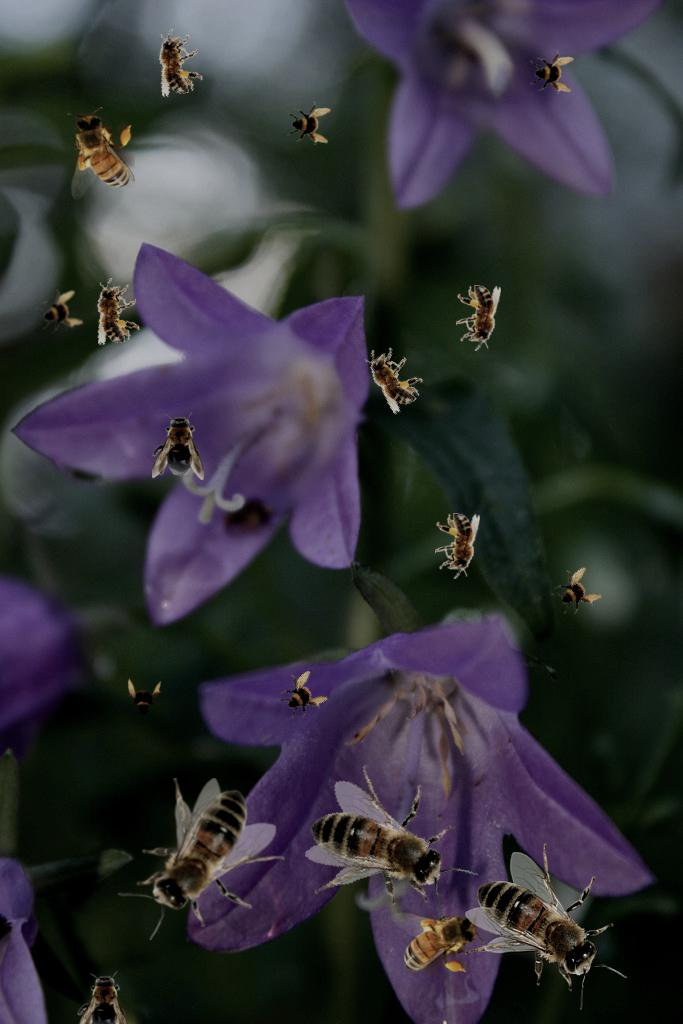Bee: (286, 744, 487, 948), (465, 843, 627, 1010), (118, 778, 285, 940), (391, 908, 484, 976), (67, 107, 135, 200), (353, 336, 431, 417), (147, 24, 207, 99), (86, 273, 144, 348), (544, 560, 606, 622), (270, 664, 332, 726), (152, 412, 204, 480), (30, 282, 88, 340), (456, 285, 501, 351), (435, 513, 480, 579), (77, 971, 129, 1024), (530, 50, 574, 94), (287, 101, 331, 145), (120, 677, 164, 721)
